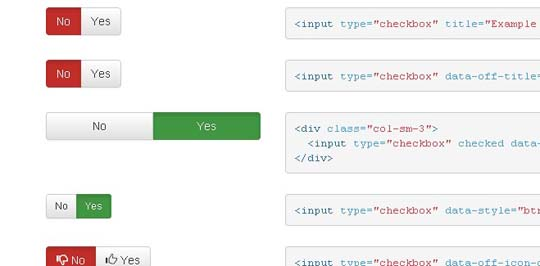checkbox: (38, 110, 273, 147), (35, 55, 129, 95), (39, 3, 129, 40), (39, 187, 119, 225)
